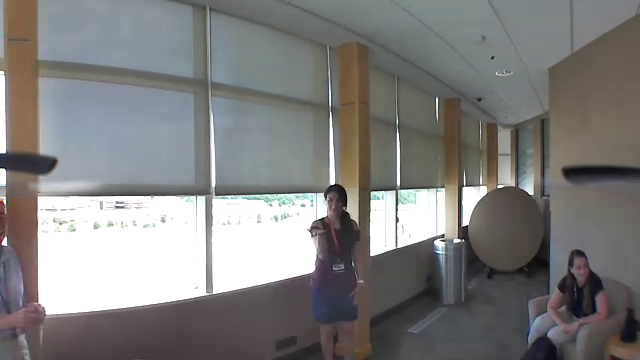land: (305, 224, 329, 239)
